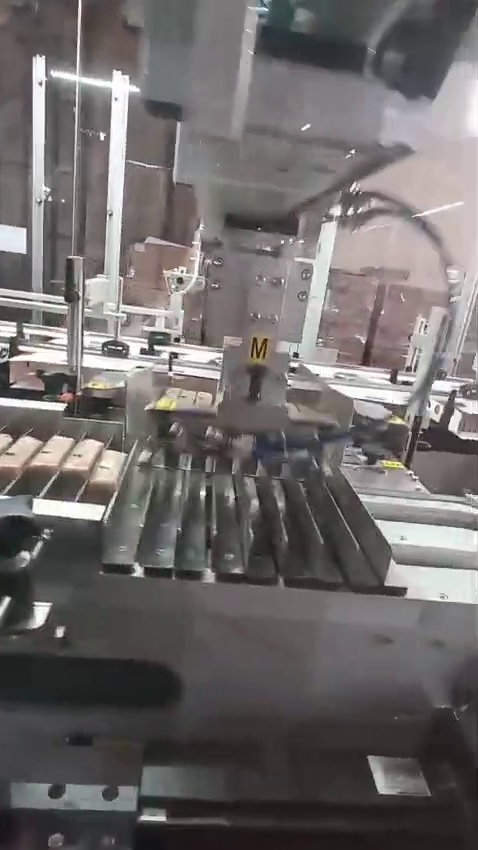savon: (0, 440, 115, 502), (247, 334, 272, 368), (147, 390, 177, 418), (169, 379, 209, 393), (381, 458, 411, 471), (83, 383, 112, 392), (113, 740, 128, 752)
